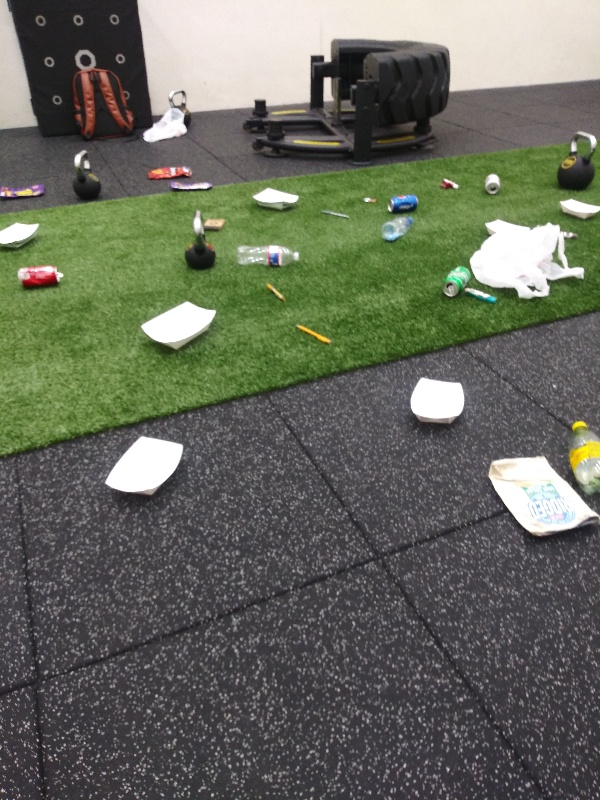bag: (484, 448, 600, 538), (1, 178, 47, 203), (168, 178, 215, 196), (143, 164, 196, 179)
bottle: (562, 418, 600, 500), (234, 244, 303, 271), (376, 213, 418, 243)
can: (15, 263, 67, 288), (438, 263, 473, 300), (385, 191, 424, 216), (482, 172, 504, 197)
plate: (105, 432, 186, 501), (140, 297, 220, 355), (408, 376, 468, 428), (248, 184, 304, 214), (1, 219, 44, 252), (557, 194, 600, 219), (481, 218, 533, 236)
